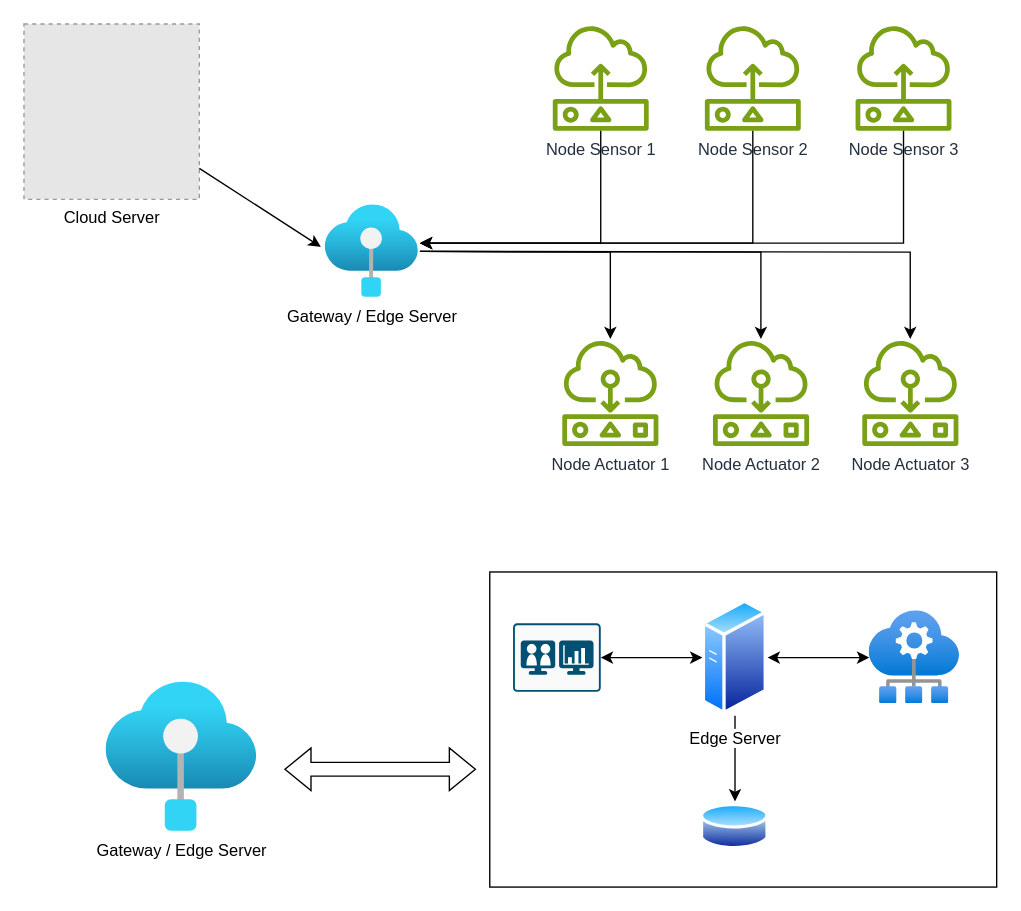
Some shapes in this 1021 by 911 pixel diagram are drawn without their labels. Grey dashed boxes stand in for pictures. The centre of each missing label's shape, as x and y in pixels:
Database: point 734,826
Nodes: point 914,656
Web-Client: point 556,657
